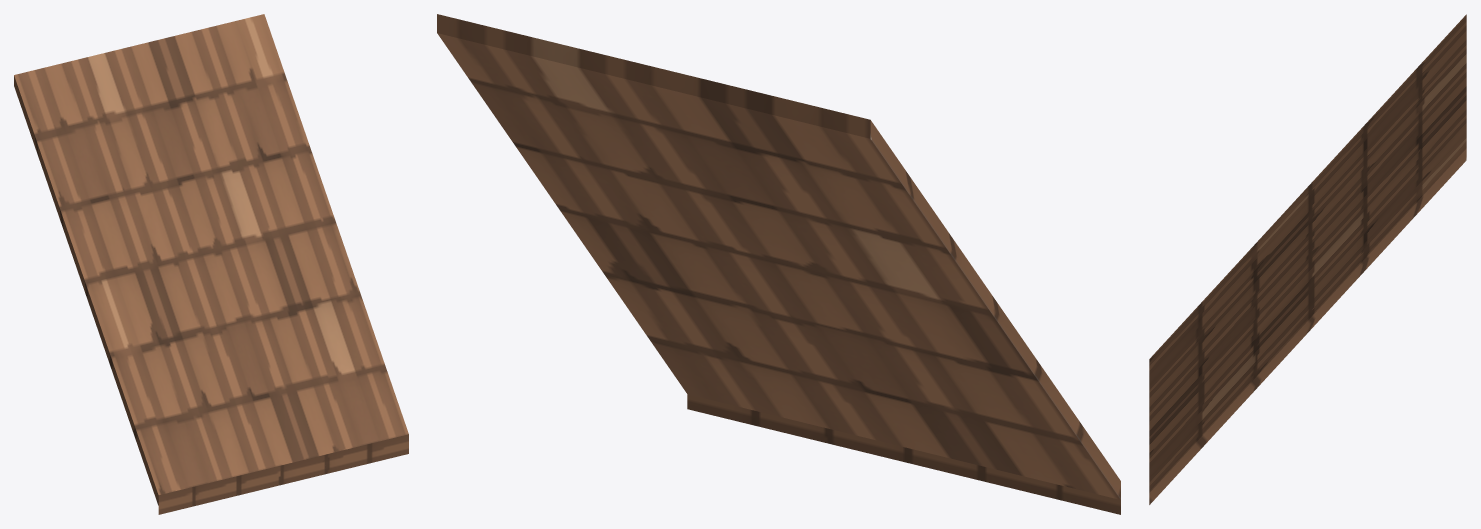
The model's file is SM_Bld_Base_Roof_Straight_01_edit.fbx.
3 renders of one model, left to right at view 1: azimuth 30°, elevation 25°; view 2: azimuth 150°, elevation 25°; view 3: azimuth 270°, elevation 25°, orthographic. The views are drawn at different scales.
Parts seen in each view (by area): view 1: SM_Bld_Base_Roof_Straight_01; view 2: SM_Bld_Base_Roof_Straight_01; view 3: SM_Bld_Base_Roof_Straight_01.
Part boxes in pixels (x1=…): SM_Bld_Base_Roof_Straight_01: x1=14, y1=14, x2=408, y2=514; SM_Bld_Base_Roof_Straight_01: x1=437, y1=14, x2=1120, y2=514; SM_Bld_Base_Roof_Straight_01: x1=1149, y1=14, x2=1466, y2=504.
Bounding box in the file's own units: 250 × 319 × 250.
